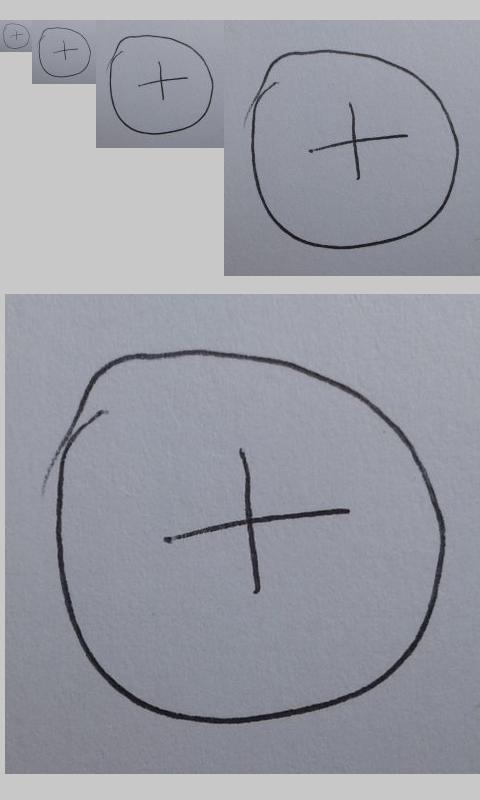button: (52, 348, 446, 725), (249, 49, 460, 251), (108, 34, 214, 136), (38, 27, 92, 78), (2, 22, 30, 50)
